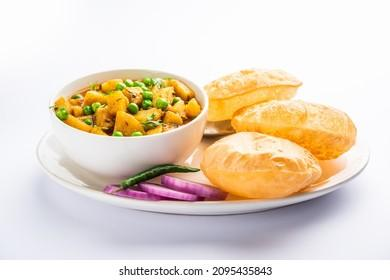puri: (210, 62, 359, 201)
